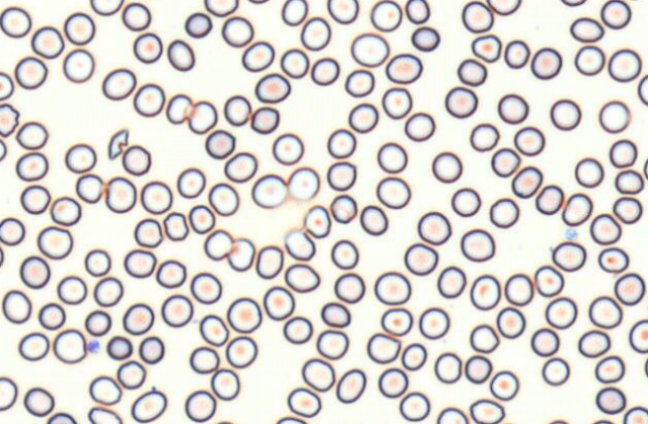PLT: (86, 340, 102, 354), (565, 226, 579, 242)
RBC: (350, 32, 389, 67), (226, 297, 262, 333), (130, 388, 167, 423), (373, 271, 411, 305), (251, 173, 287, 208), (37, 225, 73, 259), (301, 357, 335, 392), (52, 328, 86, 363), (460, 228, 495, 262), (104, 176, 136, 213), (588, 295, 622, 329), (417, 211, 451, 245), (30, 25, 64, 59), (607, 48, 641, 82), (403, 242, 438, 275), (101, 67, 136, 100), (385, 53, 422, 84), (376, 176, 410, 209), (287, 166, 320, 200), (262, 285, 294, 320), (62, 48, 94, 83), (469, 274, 500, 310), (254, 72, 290, 103), (544, 296, 577, 329), (14, 56, 47, 89), (287, 386, 321, 418), (63, 11, 95, 45), (140, 180, 172, 214), (133, 83, 165, 117), (335, 368, 366, 403), (551, 241, 586, 272), (184, 389, 216, 422), (122, 302, 154, 335), (225, 335, 257, 368), (161, 294, 193, 327), (461, 0, 493, 33), (444, 86, 477, 118), (241, 40, 274, 72), (598, 100, 630, 133), (19, 255, 50, 289), (366, 332, 400, 363), (561, 192, 592, 226), (300, 16, 331, 50), (208, 182, 239, 216), (223, 151, 257, 182), (284, 263, 320, 292), (589, 213, 621, 245), (221, 15, 253, 47), (530, 47, 562, 79), (284, 228, 315, 261), (511, 165, 542, 198), (614, 272, 645, 305), (418, 306, 449, 339), (190, 271, 221, 304), (381, 86, 412, 119), (272, 132, 303, 165), (88, 375, 122, 405), (187, 100, 217, 134), (0, 6, 31, 38), (333, 272, 365, 303), (431, 151, 462, 183), (370, 0, 402, 31), (376, 141, 407, 173), (64, 142, 96, 173), (550, 98, 581, 130), (534, 264, 564, 297), (123, 248, 156, 278), (436, 265, 466, 298), (15, 151, 48, 181), (2, 289, 31, 323), (255, 244, 283, 279), (377, 367, 408, 398), (23, 386, 54, 417), (50, 195, 81, 226), (497, 93, 528, 124), (574, 45, 605, 76), (398, 391, 430, 421), (210, 368, 240, 400), (203, 228, 233, 260), (316, 329, 348, 359), (577, 329, 610, 358), (15, 120, 48, 149), (227, 237, 255, 271), (303, 204, 331, 238), (18, 331, 49, 361), (121, 144, 151, 175), (133, 217, 163, 248), (489, 197, 519, 228), (404, 111, 435, 141), (204, 129, 235, 159), (574, 157, 604, 188), (348, 102, 378, 133), (326, 160, 356, 191), (513, 126, 544, 156), (380, 307, 412, 336), (199, 314, 228, 346), (433, 351, 462, 383), (496, 306, 525, 338), (504, 273, 533, 305), (569, 16, 604, 42), (469, 398, 505, 423), (489, 370, 519, 400), (469, 323, 499, 353), (20, 184, 50, 214), (93, 276, 123, 306), (490, 147, 520, 177), (451, 187, 481, 217), (121, 1, 151, 31), (535, 184, 564, 215), (155, 259, 186, 288), (359, 204, 388, 235), (176, 167, 205, 198), (600, 0, 631, 29), (133, 32, 162, 63), (167, 39, 195, 71), (223, 94, 251, 126), (116, 360, 146, 389), (541, 356, 570, 386), (57, 275, 87, 304), (282, 315, 312, 344), (471, 33, 501, 62), (469, 122, 499, 151), (344, 68, 374, 97), (280, 48, 309, 78), (327, 128, 356, 158), (165, 93, 193, 124), (594, 355, 625, 383), (595, 386, 626, 414), (597, 246, 629, 273), (530, 327, 559, 356), (189, 346, 219, 374), (612, 196, 642, 224), (75, 173, 103, 203), (329, 193, 357, 223), (330, 239, 358, 269), (609, 138, 637, 168), (464, 354, 492, 383), (457, 58, 486, 86), (310, 57, 339, 85), (250, 106, 279, 134), (320, 301, 350, 328), (188, 204, 215, 233), (614, 168, 644, 194), (162, 211, 188, 241), (410, 25, 440, 51), (38, 302, 65, 330), (84, 248, 111, 276), (184, 11, 212, 38), (138, 335, 164, 364), (504, 39, 530, 68), (327, 0, 358, 24), (84, 309, 111, 336), (401, 342, 427, 370), (0, 216, 25, 245), (106, 335, 132, 360), (281, 0, 307, 25), (0, 103, 19, 137), (628, 319, 647, 353), (0, 376, 18, 411), (404, 0, 430, 24), (87, 406, 122, 423), (203, 0, 238, 16), (436, 406, 468, 423), (486, 0, 521, 15), (89, 0, 123, 15), (623, 406, 647, 423), (0, 71, 14, 100), (46, 411, 77, 423), (637, 74, 647, 105), (275, 415, 306, 423), (0, 137, 7, 161), (560, 0, 587, 6), (591, 418, 615, 423), (643, 356, 648, 378), (547, 418, 569, 423), (643, 157, 648, 179), (0, 245, 4, 267), (247, 0, 269, 4), (213, 420, 234, 424)
Schistocyte: (108, 127, 129, 161)
